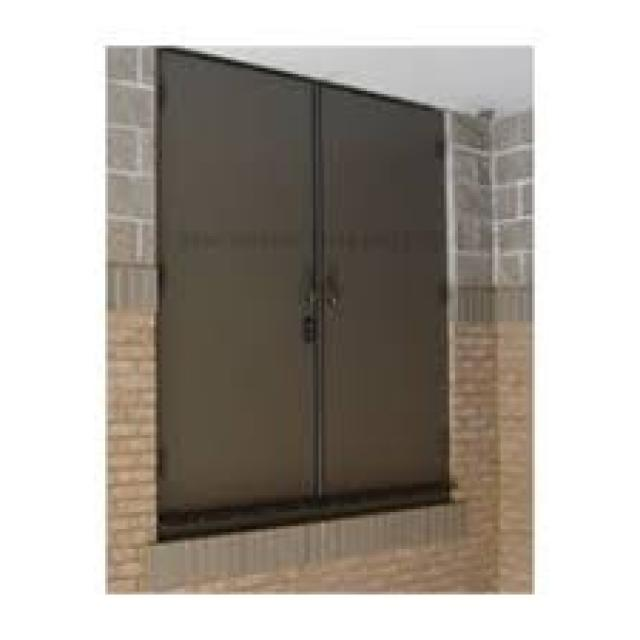door: (155, 50, 451, 530)
